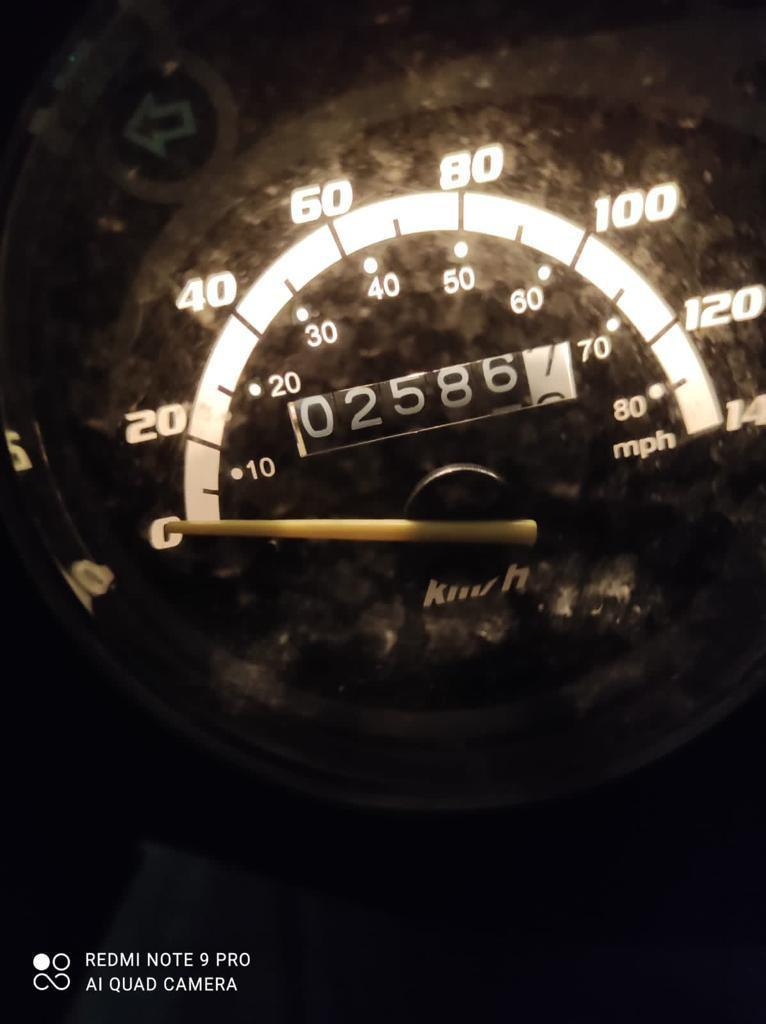0: (296, 394, 335, 444), (284, 367, 303, 393)
2: (342, 379, 383, 433)
5: (389, 371, 426, 416)
6: (481, 352, 518, 392)
7: (526, 340, 564, 379), (574, 340, 591, 364)
8: (435, 363, 474, 410)
odometer: (281, 340, 592, 465)
